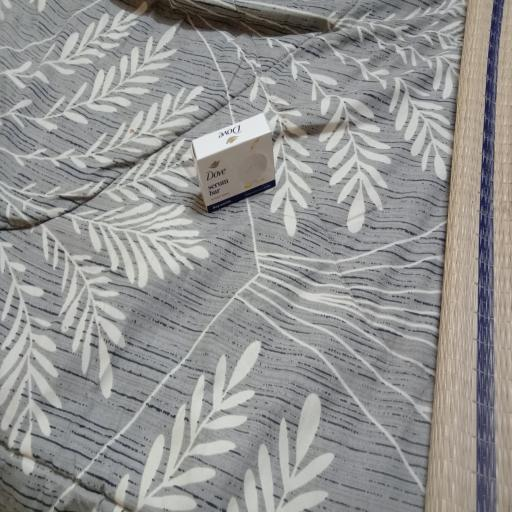Dove`1: (177, 111, 292, 218)
